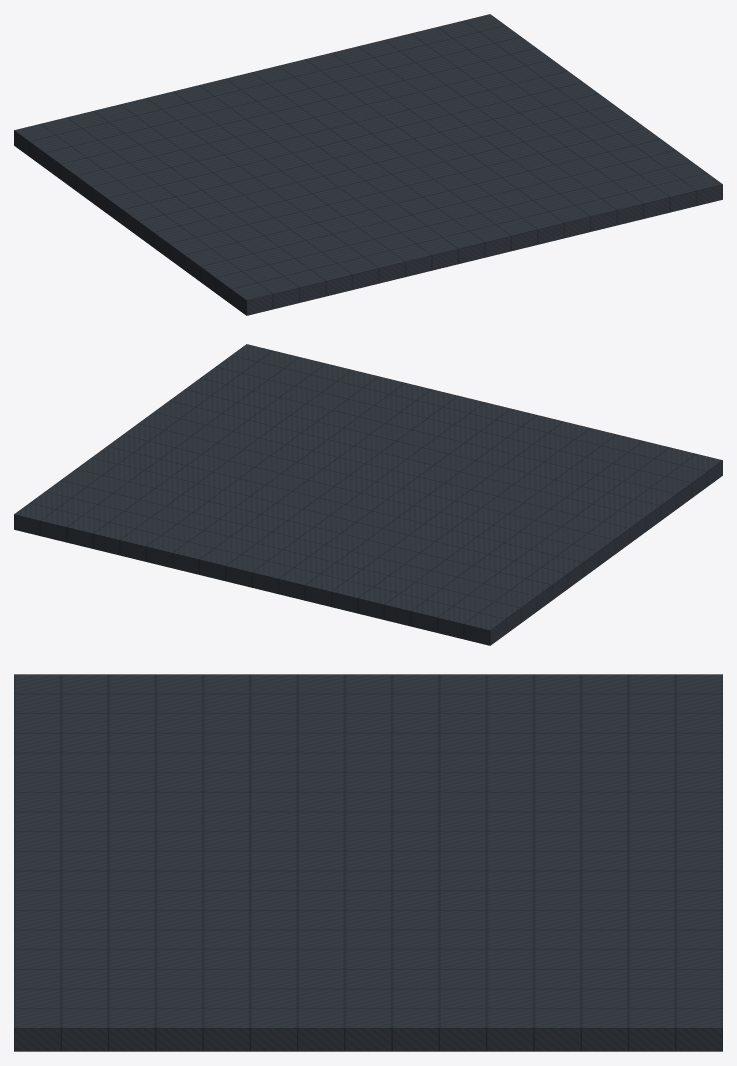
Rendered from slate-floor.glb.
3 views of the same model, one above another, from view 1: azimuth 30°, elevation 25°; view 2: azimuth 150°, elevation 25°; view 3: azimuth 270°, elevation 25° (orthographic). The views are drawn at different scales.
Size of the model in its own units: 13 by 0.4 by 11.
Materials: 1 (1 with a texture image).
